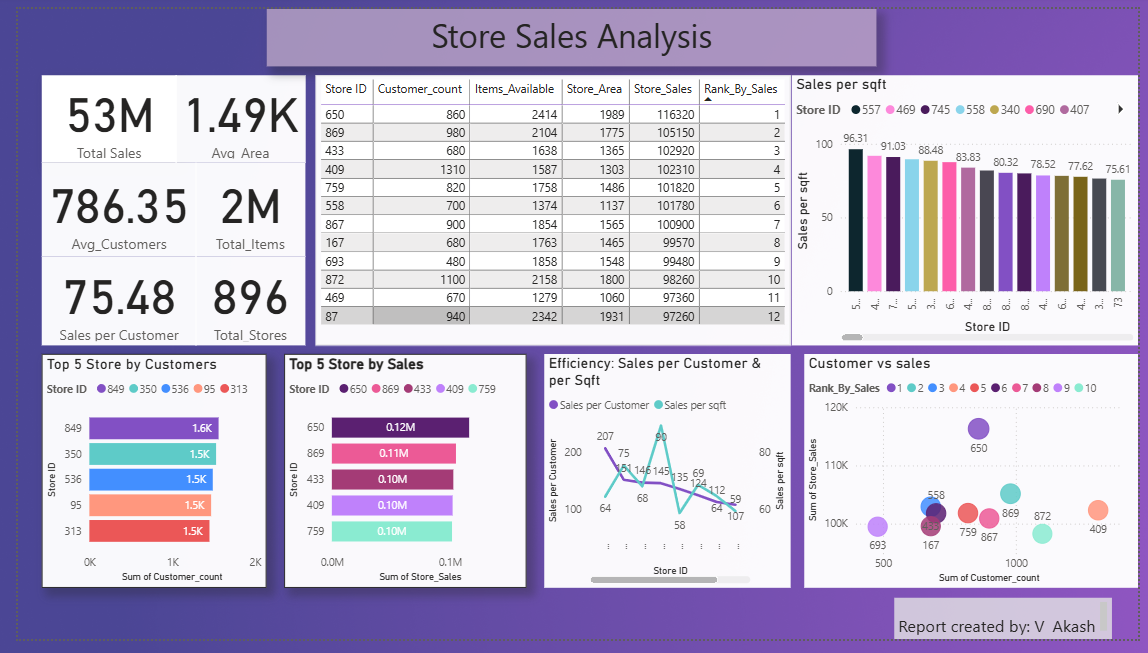

The dashboard page shown, as its layout file describes it:
{"tool":"powerbi","page":{"name":"Page 1","canvas":[1280,720],"ordinal":0},"visuals":[{"type":"card","fields":{"Values":["Stores.Total Sales"]},"box":[27.1,75.7,154.3,100],"z":0},{"type":"barChart","title":"Top 5 Store by Customers","fields":{"Category":["Stores.Store ID "],"Y":["Sum(Stores.Customer_count)"],"Series":["Stores.Store ID "]},"box":[27.1,394.3,257.1,267.1],"z":1000},{"type":"barChart","title":"Top 5 Store by Sales","fields":{"Series":["Stores.Store ID "],"Category":["Stores.Store ID "],"Y":["Sum(Stores.Store_Sales)"]},"box":[304.3,394.3,277.1,267.1],"z":2000},{"type":"lineChart","title":"Efficiency: Sales per Customer & per Sqft","fields":{"Y2":["Stores.Sales per sqft"],"Category":["Stores.Store ID "],"Y":["Stores.Sales per Customer"]},"box":[601.4,394.3,281.4,267.1],"z":3000},{"type":"card","fields":{"Values":["Stores.Avg_Customers"]},"box":[27.1,175.7,177.1,107.1],"z":4000},{"type":"card","fields":{"Values":["Stores.Total_Stores"]},"box":[202.9,282.9,125.7,101.4],"z":5000},{"type":"card","fields":{"Values":["Stores.Total_Items"]},"box":[202.9,175.7,125.7,107.1],"z":6000},{"type":"card","fields":{"Values":["Stores.Avg_Area"]},"box":[180,75.7,148.6,100],"z":7000},{"type":"textbox","box":[284.3,0,697.1,65.7],"z":8000},{"type":"card","fields":{"Values":["Stores.Sales per Customer"]},"box":[27.1,282.9,177.1,101.4],"z":9000},{"type":"scatterChart","title":"Customer vs sales","fields":{"Series":["Stores.Rank_By_Sales"],"Category":["Stores.Store ID "],"X":["Sum(Stores.Customer_count)"],"Y":["Sum(Stores.Store_Sales)"],"Size":["Sum(Stores.Store_Sales)"]},"box":[898.6,394.3,381.4,267.1],"z":10000},{"type":"tableEx","fields":{"Values":["Stores.Store ID ","Stores.Customer_count","Stores.Items_Available","Stores.Store_Area","Stores.Store_Sales","Stores.Rank_By_Sales"]},"box":[340,75.7,542.9,308.6],"z":11000},{"type":"columnChart","title":"Sales per sqft","fields":{"Category":["Stores.Store ID "],"Y":["Stores.Sales per sqft"],"Series":["Stores.Store ID "]},"box":[884.3,75.7,395.7,308.6],"z":12000},{"type":"textbox","box":[1001.4,672.9,248.6,47.1],"z":12001}]}

Visuals, with their boxes in screenshot pixels (x1, y1, x2, y2), scaled from the page's 1280x720 canvas onto the 1148x653 screenshot:
card - Stores.Total Sales: (x1=24, y1=69, x2=163, y2=159)
"Top 5 Store by Customers" barChart: (x1=24, y1=358, x2=255, y2=600)
"Top 5 Store by Sales" barChart: (x1=273, y1=358, x2=521, y2=600)
"Efficiency: Sales per Customer & per Sqft" lineChart: (x1=539, y1=358, x2=792, y2=600)
card - Stores.Avg_Customers: (x1=24, y1=159, x2=183, y2=256)
card - Stores.Total_Stores: (x1=182, y1=257, x2=295, y2=349)
card - Stores.Total_Items: (x1=182, y1=159, x2=295, y2=256)
card - Stores.Avg_Area: (x1=161, y1=69, x2=295, y2=159)
textbox: (x1=255, y1=0, x2=880, y2=60)
card - Stores.Sales per Customer: (x1=24, y1=257, x2=183, y2=349)
"Customer vs sales" scatterChart: (x1=806, y1=358, x2=1147, y2=600)
tableEx - Stores.Store ID  x Stores.Customer_count: (x1=305, y1=69, x2=792, y2=349)
"Sales per sqft" columnChart: (x1=793, y1=69, x2=1147, y2=349)
textbox: (x1=898, y1=610, x2=1121, y2=652)
